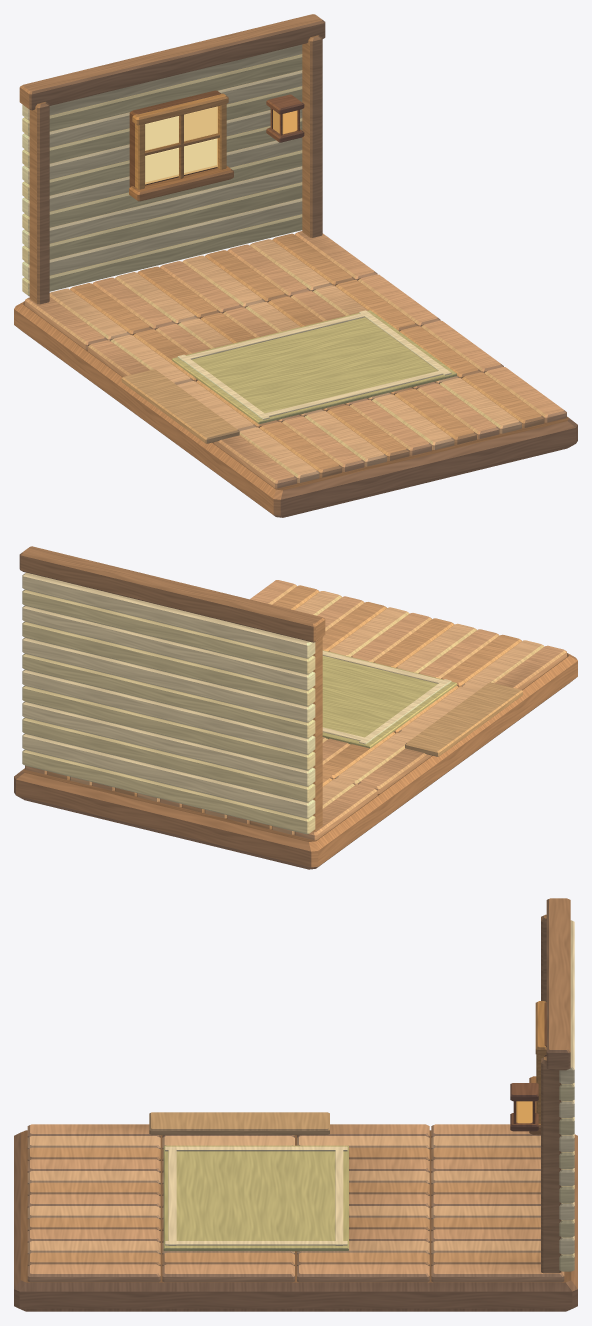
File: interior_annex_0.glb
The picture shows the model from 3 angles, top to bottom: view 1: azimuth 30°, elevation 25°; view 2: azimuth 150°, elevation 25°; view 3: azimuth 270°, elevation 25°; orthographic projection. The views are drawn at different scales.
Visible parts, largest first — view 1: Hofanbau · Gartenstube; view 2: Hofanbau · Gartenstube; view 3: Hofanbau · Gartenstube.
Part boxes in pixels (x1,y1,x2,y2): Hofanbau · Gartenstube: (14, 14, 577, 517); Hofanbau · Gartenstube: (14, 546, 577, 869); Hofanbau · Gartenstube: (14, 898, 577, 1311).
Bounding box in the file's own units: 4.15 × 3.13 × 6.12.
Materials: 2 (1 with a texture image).
